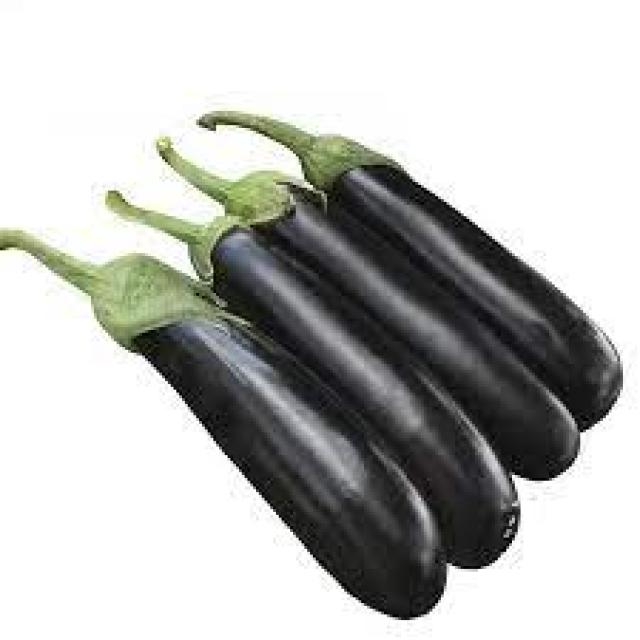eggplant: (74, 250, 447, 618), (190, 213, 515, 569), (230, 171, 572, 478), (299, 128, 617, 418)
